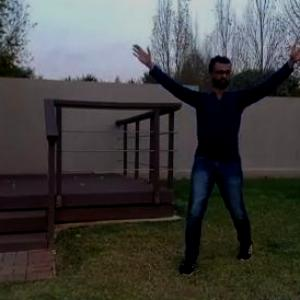takeoff: (117, 31, 299, 279)
